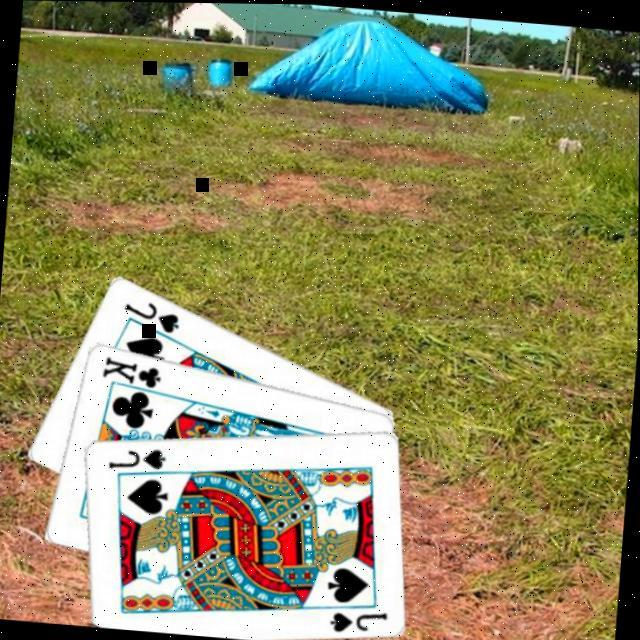JS: (120, 293, 184, 334), (105, 439, 170, 473), (327, 601, 391, 635)
KC: (99, 350, 170, 396)
